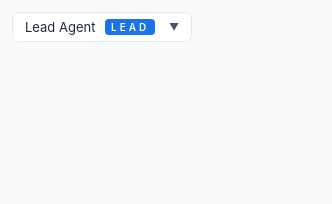
Test case: TargetSelector › opens dropdown on click
The width and height of the screenshot is (332, 204).
Click the button with aria-label "current target: lead agent" at (102, 27), box x1=12 y1=12 x2=192 y2=42
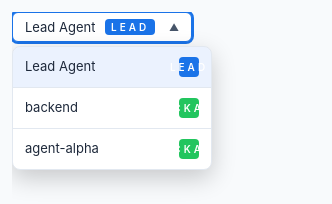
Result: the list is shown at x1=12 y1=46 x2=212 y2=170
Result: the option named "lead agentlead" is shown at x1=13 y1=47 x2=211 y2=88
Result: the option named "backendpackage" is shown at x1=13 y1=88 x2=211 y2=129
